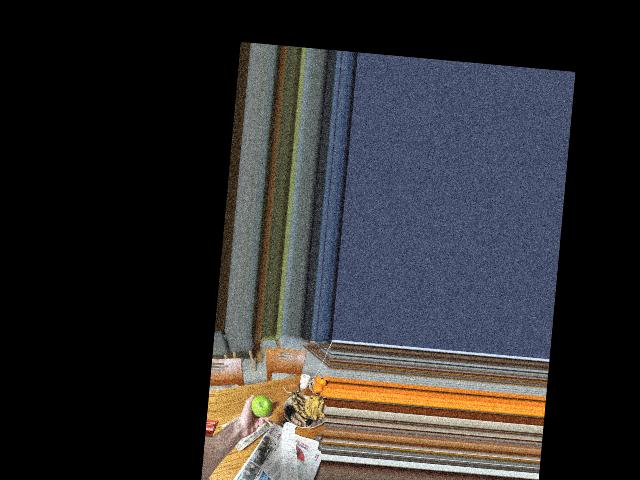apple: (250, 389, 272, 422)
